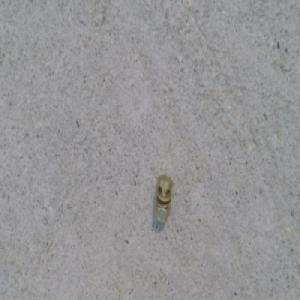BoltNutSet: (153, 175, 171, 222)
